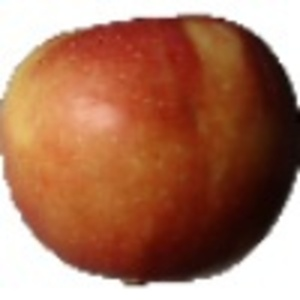maçã braeburn: (1, 11, 299, 288)
